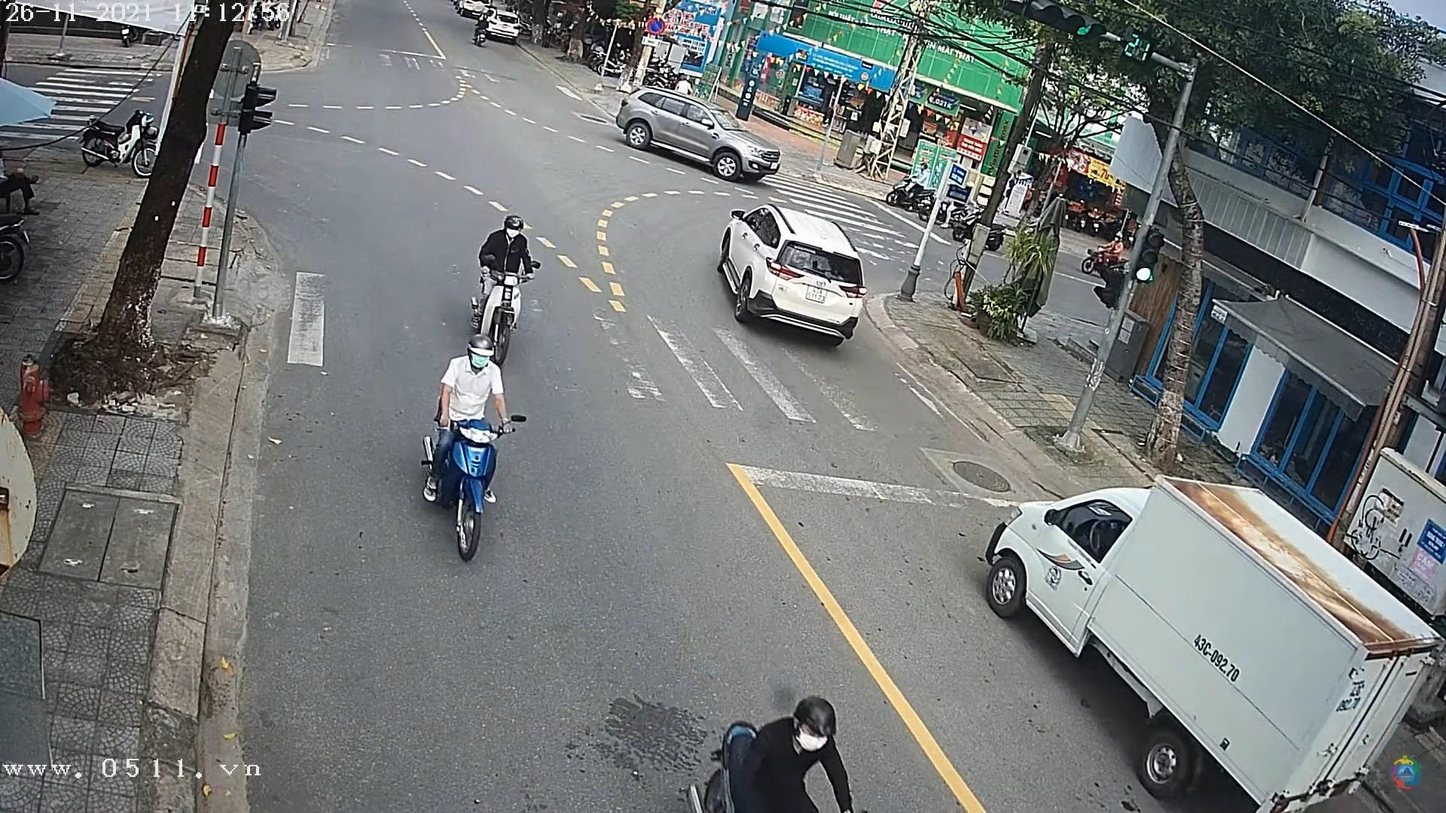motorbike: (420, 397, 527, 565), (468, 234, 542, 376)
